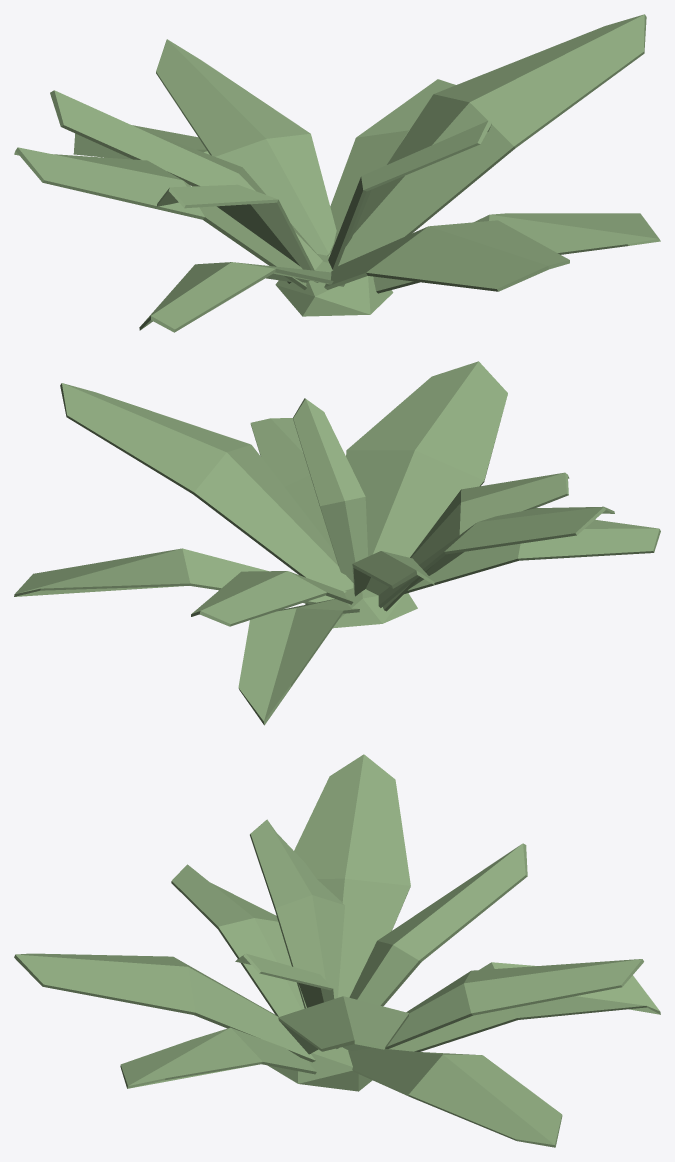
Rendered from fern2.fbx.
3 renders of one model, top to bottom at view 1: azimuth 30°, elevation 25°; view 2: azimuth 150°, elevation 25°; view 3: azimuth 270°, elevation 25°, orthographic. The views are drawn at different scales.
Visible parts, largest first — view 1: pPlane3, pPlane2, pPlane4, pPlane5, pPlane9, pPlane6, pPlane8, pPlane11, pPlane7, pPlane10, pPlatonic1, pPlane12; view 2: pPlane4, pPlane3, pPlane12, pPlane7, pPlane10, pPlane8, pPlane5, pPlane11, pPlane2, pPlane6, pPlane9, pPlatonic1; view 3: pPlane5, pPlane4, pPlane7, pPlane2, pPlane9, pPlane11, pPlane8, pPlane6, pPlane3, pPlane12, pPlatonic1, pPlane10.
Part boxes in pixels (box(x1,y1,x2,y2)): pPlane3: box(339, 14, 646, 264); pPlane2: box(156, 39, 336, 255); pPlane4: box(324, 220, 569, 291); pPlane5: box(14, 147, 307, 289); pPlane9: box(50, 90, 322, 269); pPlane6: box(373, 213, 660, 293); pPlane8: box(139, 262, 344, 332); pPlane11: box(157, 184, 318, 283); pPlane7: box(327, 79, 455, 256); pPlane10: box(328, 120, 492, 269); pPlatonic1: box(275, 254, 393, 316); pPlane12: box(73, 125, 209, 159); pPlane4: box(346, 361, 507, 557); pPlane3: box(60, 383, 353, 590); pPlane12: box(238, 599, 359, 725); pPlane7: box(14, 548, 346, 603); pPlane10: box(293, 398, 368, 582); pPlane8: box(404, 519, 660, 593); pPlane5: box(378, 506, 614, 607); pPlane11: box(383, 472, 569, 611); pPlane2: box(191, 571, 353, 626); pPlane6: box(250, 418, 333, 549); pPlane9: box(352, 551, 434, 596); pPlatonic1: box(305, 588, 417, 628); pPlane5: box(294, 754, 410, 997); pPlane4: box(14, 953, 315, 1062); pPlane7: box(348, 1047, 562, 1147); pPlane2: box(385, 959, 643, 1048); pPlane9: box(349, 843, 527, 1006); pPlane11: box(250, 819, 344, 1008); pPlane8: box(171, 864, 304, 1016); pPlane6: box(120, 1027, 316, 1088); pPlane3: box(278, 996, 409, 1054); pPlane12: box(389, 962, 660, 1051); pPlatonic1: box(267, 1047, 372, 1091); pPlane10: box(235, 953, 338, 1048).
Bounding box in the file's own units: 4.99 × 1.59 × 4.97.
